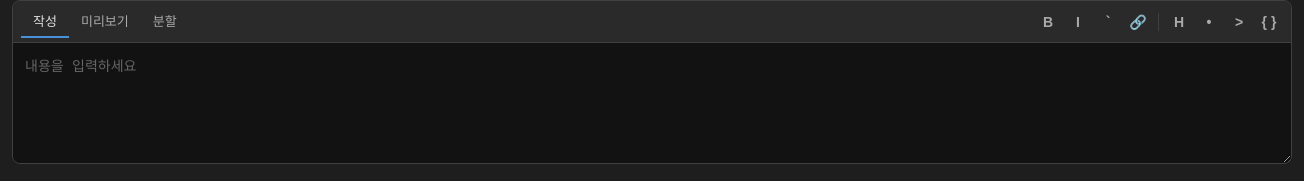
Test case: MarkdownEditor › shows placeholder in preview when value is empty
Click the tab "미리보기" at coordinates (105, 22), box x1=69 y1=5 x2=141 y2=38
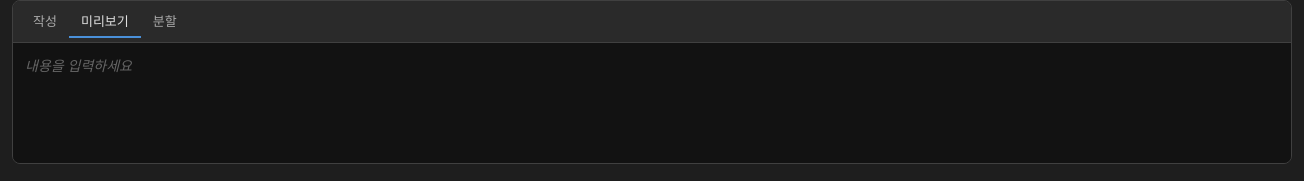
Expected: the text "내용을 입력하세요" is shown, x1=25 y1=57 x2=132 y2=74
